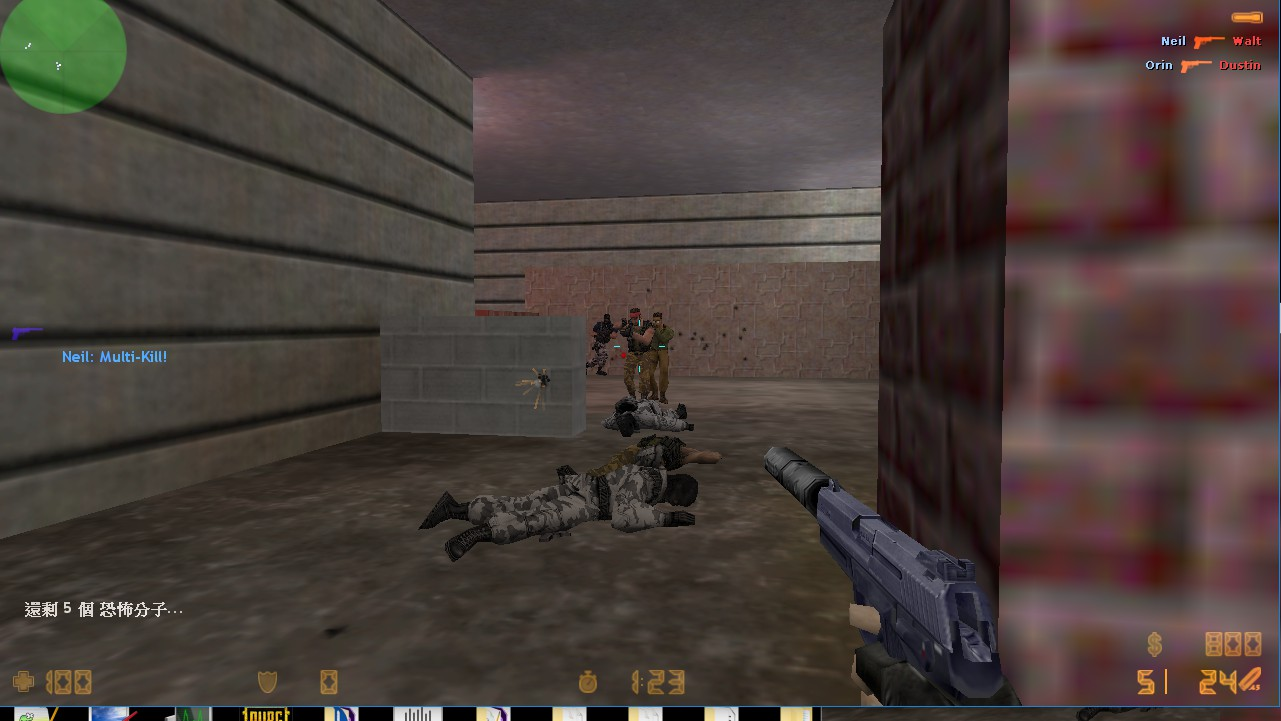person: (620, 307, 652, 398), (646, 310, 674, 403), (585, 309, 615, 380)
